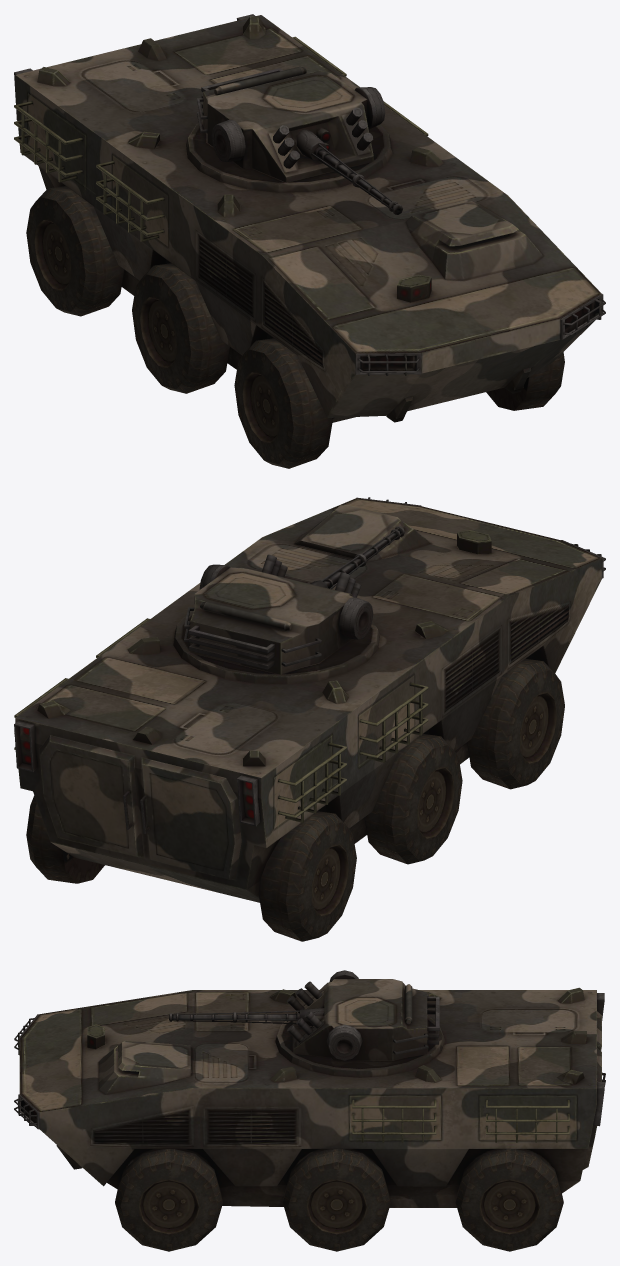
Rendered from Armoured_APC.fbx.
3 renders of one model, top to bottom at view 1: azimuth 30°, elevation 25°; view 2: azimuth 150°, elevation 25°; view 3: azimuth 270°, elevation 25°, orthographic. The views are drawn at different scales.
Visible parts, largest first — view 1: Armored_APC; view 2: Armored_APC; view 3: Armored_APC.
Boxes of the visible parts, box(x1,y1,x2,y2) form: Armored_APC: box(14, 14, 605, 468); Armored_APC: box(14, 497, 605, 941); Armored_APC: box(14, 970, 605, 1251).
Bounding box in the file's own units: 99.58 × 85.4 × 222.
